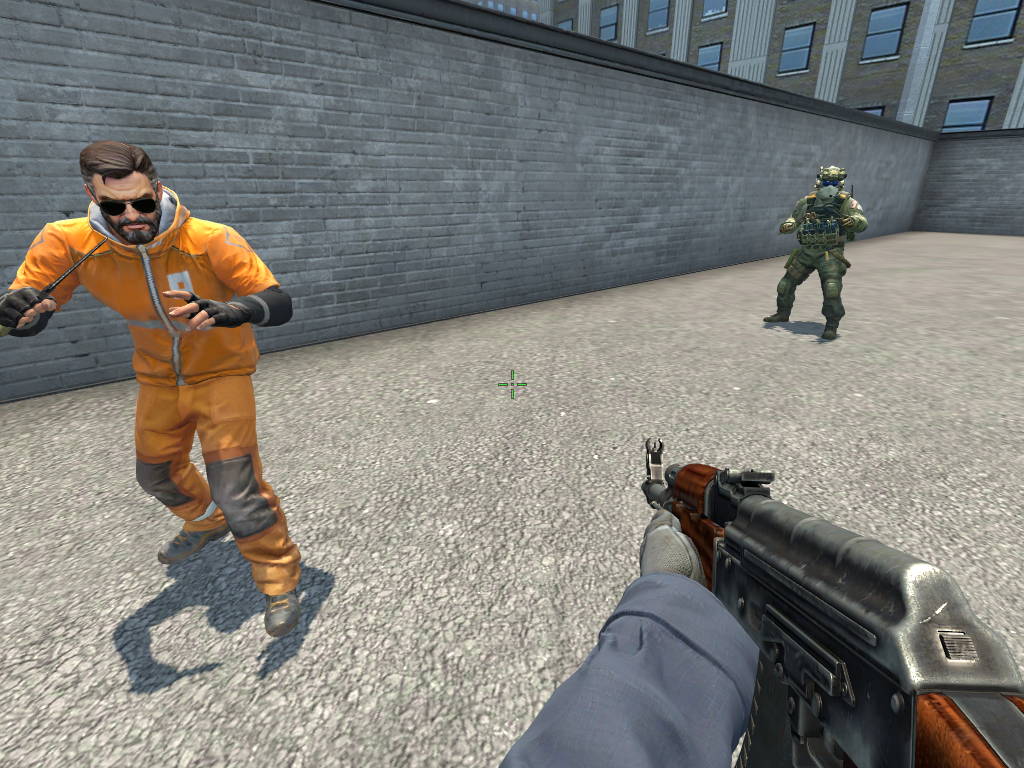ct head: (814, 166, 847, 200)
tr head: (78, 137, 165, 246)
